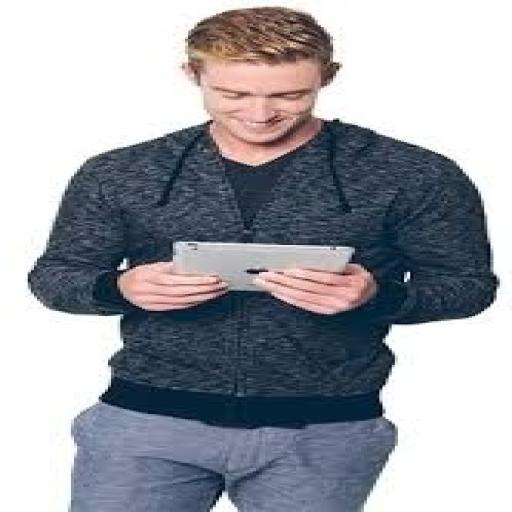texting: (24, 5, 500, 510)
